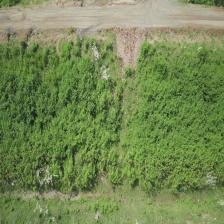vegetation: (0, 29, 114, 191)
